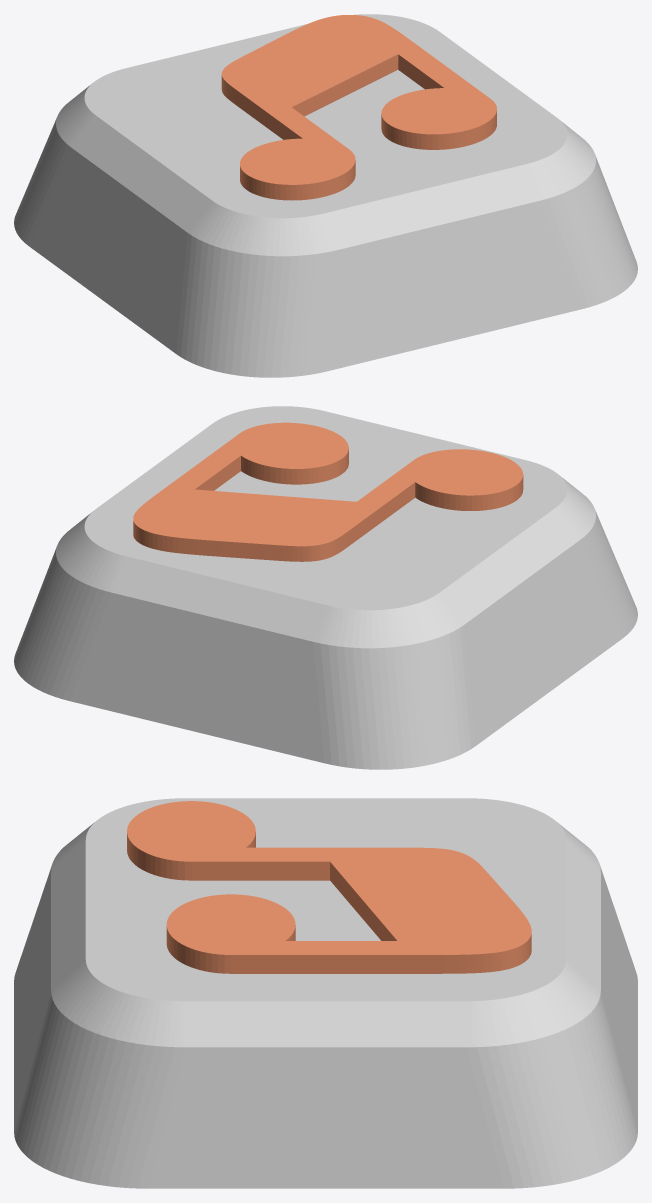
The model's file is cap-music.glb.
3 views of the same model, one above another, from view 1: azimuth 30°, elevation 25°; view 2: azimuth 150°, elevation 25°; view 3: azimuth 270°, elevation 25° (orthographic). The views are drawn at different scales.
Visible parts, largest first — view 1: cap_0, glyph_1; view 2: cap_0, glyph_1; view 3: cap_0, glyph_1.
Boxes of the visible parts, left/top/right/bottom form: cap_0: left=14, top=14, right=637, bottom=377; glyph_1: left=221, top=15, right=496, bottom=200; cap_0: left=14, top=406, right=637, bottom=769; glyph_1: left=133, top=422, right=523, bottom=561; cap_0: left=14, top=798, right=637, bottom=1188; glyph_1: left=127, top=801, right=531, bottom=973.
Size of the model in its own units: 18 by 5.6 by 18.
